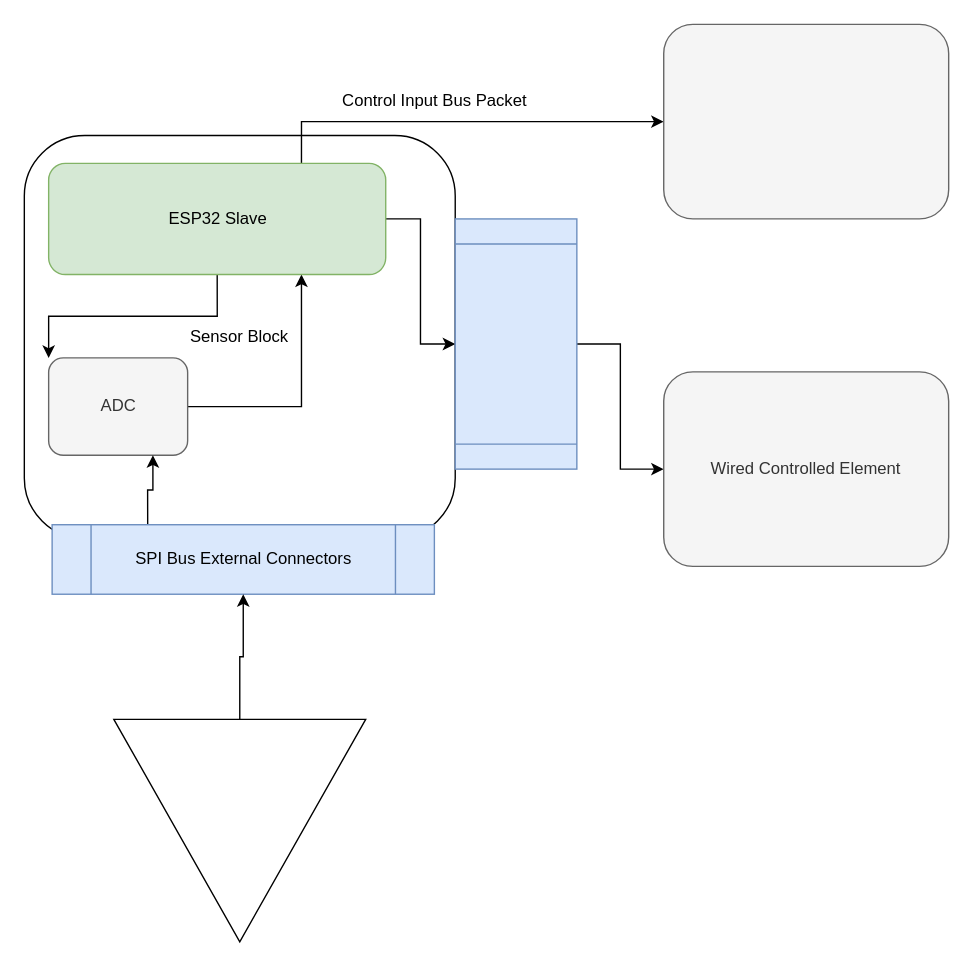
Some shapes in this 973 by 966 pixel diagram are drawn without their labels. The shapes that lost their labels are listed below. From the top down, each one's centre as x and y in pixels, then its label:
At point 805,121: "IoT Controlled Element".
At point 515,343: "Control Input Bus".
At point 239,830: "Generic Sensor".
